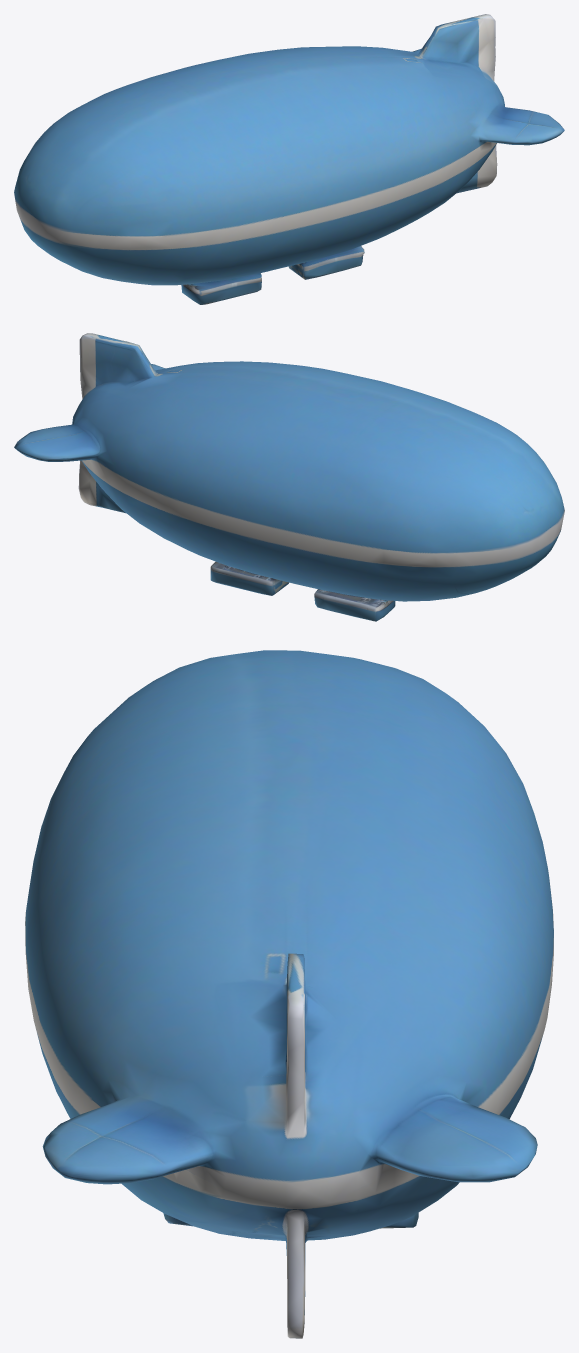
The model's file is A_single_low_poly_3D__1209034544_texture.fbx.
3 views of the same model, one above another, from view 1: azimuth 30°, elevation 25°; view 2: azimuth 150°, elevation 25°; view 3: azimuth 270°, elevation 25° (orthographic). The views are drawn at different scales.
Parts seen in each view (by area): view 1: input; view 2: input; view 3: input.
Part boxes in pixels (x1,y1,x2,y2): input: (14, 14, 564, 304); input: (14, 333, 564, 621); input: (25, 650, 553, 1338).
Size of the model in its own units: 201 by 76.2 by 95.37.
Materials: 1 (1 with a texture image).
